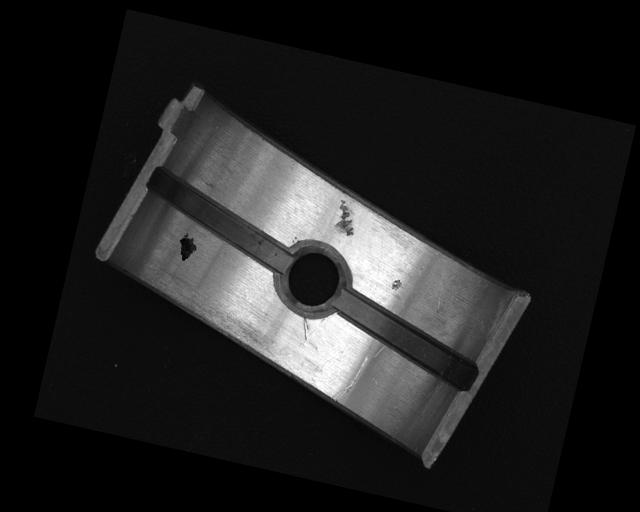blot: (175, 230, 200, 264)
bruise: (332, 198, 362, 238), (390, 276, 404, 293)
gap: (135, 166, 304, 275), (325, 289, 487, 390)
hole: (268, 236, 356, 326)
nick: (331, 350, 371, 407), (297, 314, 313, 341)
scratch: (137, 275, 276, 354)
